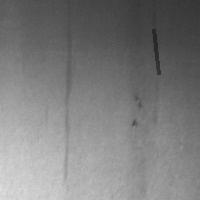inclusion: (54, 2, 78, 187), (143, 2, 166, 68), (151, 27, 160, 76)
